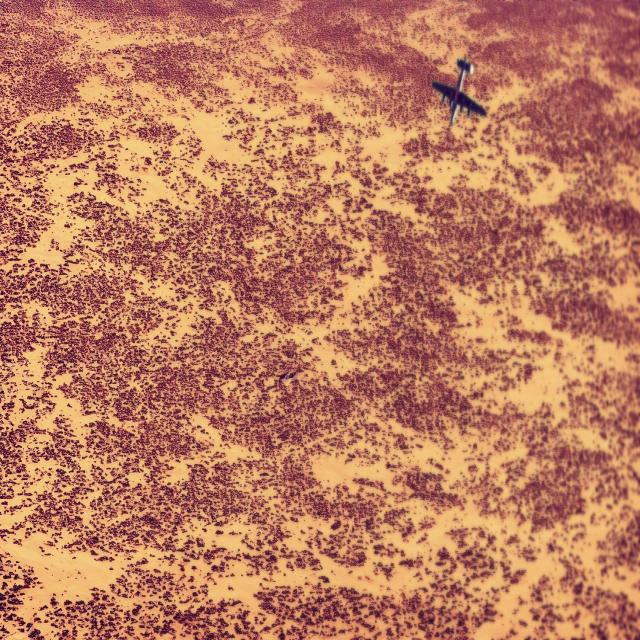airplane: (431, 57, 487, 126)
